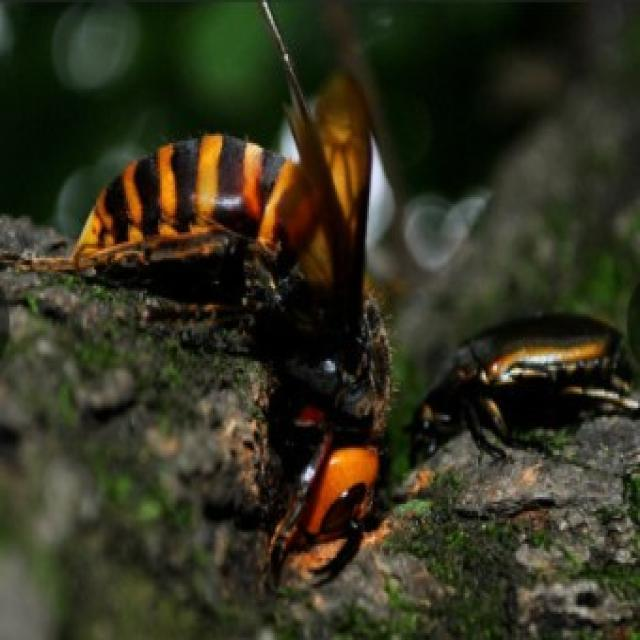Wasp: (63, 100, 389, 580)
